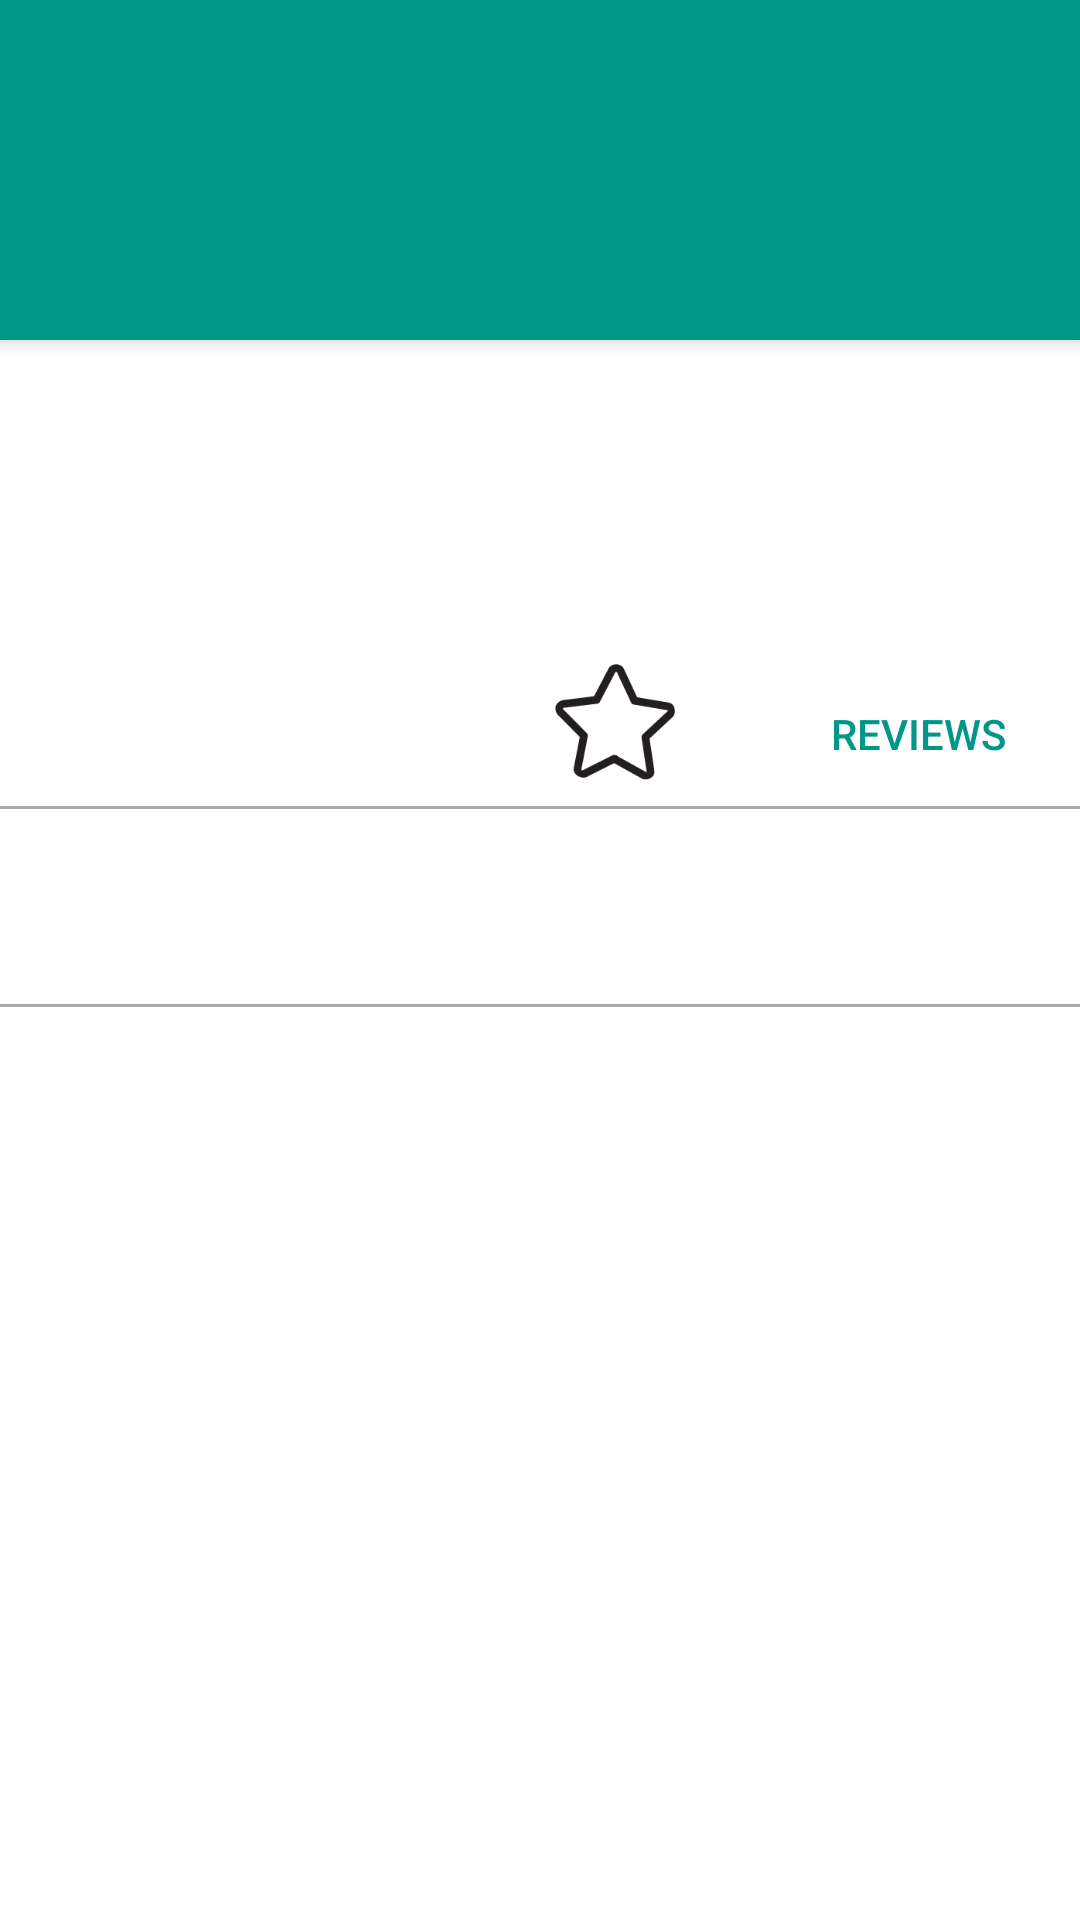

Icon bounding boxes for this 1080w x 1920h phone screenshot, format [x1,y1,x2,y2]:
star: [555,664,675,780]
